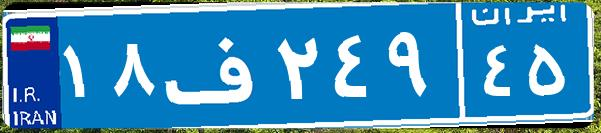1: (57, 26, 110, 107)
2: (273, 28, 330, 110)
4: (330, 28, 385, 110), (475, 38, 525, 113)
5: (525, 38, 570, 115)
8: (110, 28, 158, 105)
9: (385, 28, 445, 110)
ف: (158, 15, 273, 115)
